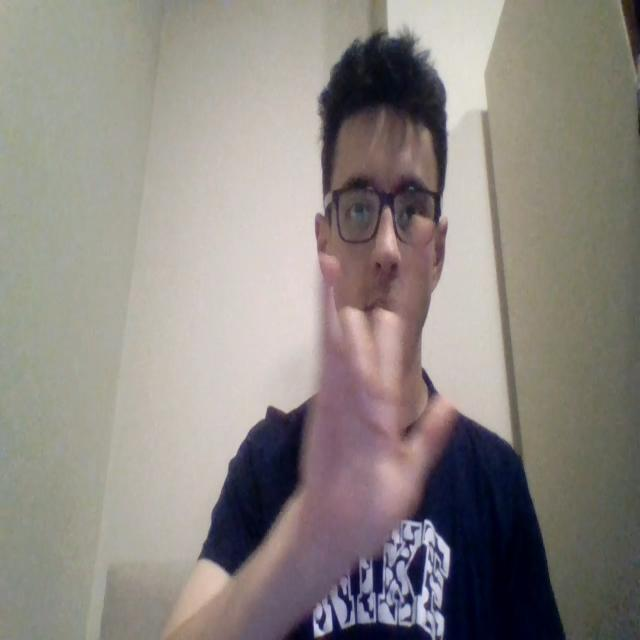iloveyou: (297, 276, 459, 568)
